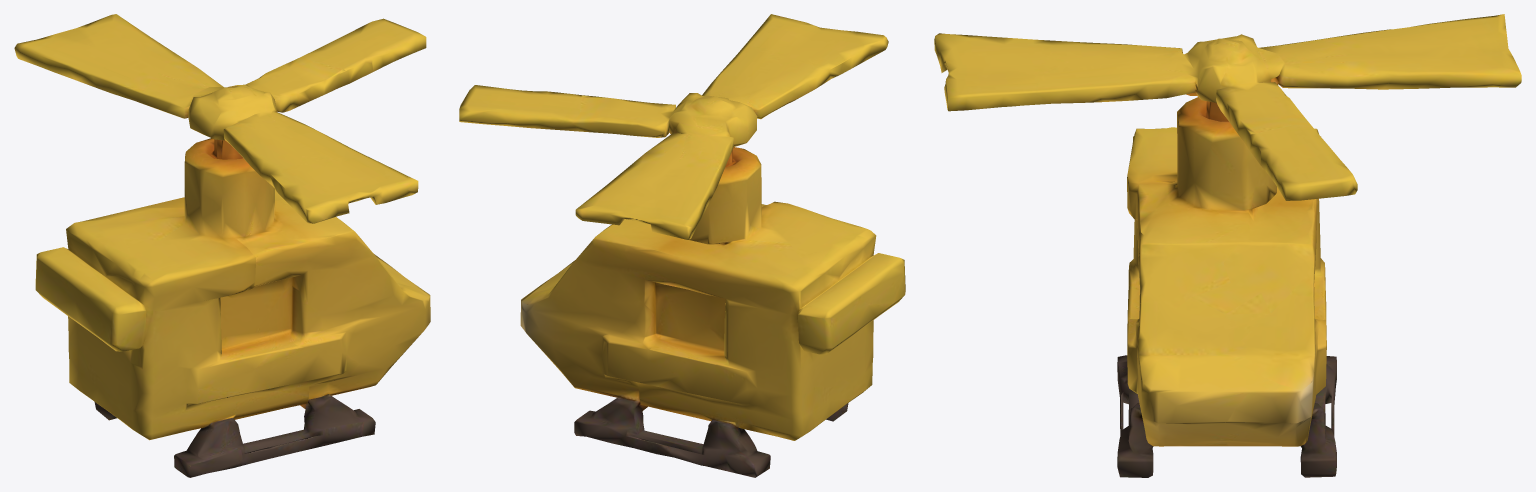
Rendered from helicopter.glb.
The picture shows the model from 3 angles, left to right: view 1: azimuth 30°, elevation 25°; view 2: azimuth 150°, elevation 25°; view 3: azimuth 270°, elevation 25°; orthographic projection. The views are drawn at different scales.
Parts seen in each view (by area): view 1: tripo_node_0e7a46c3-ed71-4e1c-a234-be2017f1d538; view 2: tripo_node_0e7a46c3-ed71-4e1c-a234-be2017f1d538; view 3: tripo_node_0e7a46c3-ed71-4e1c-a234-be2017f1d538.
Part boxes in pixels (x1=…): tripo_node_0e7a46c3-ed71-4e1c-a234-be2017f1d538: x1=14, y1=14, x2=430, y2=477; tripo_node_0e7a46c3-ed71-4e1c-a234-be2017f1d538: x1=459, y1=14, x2=905, y2=477; tripo_node_0e7a46c3-ed71-4e1c-a234-be2017f1d538: x1=934, y1=14, x2=1521, y2=477.
Size of the model in its own units: 0.8516 by 0.716 by 1.
1 material, 1 textured.
